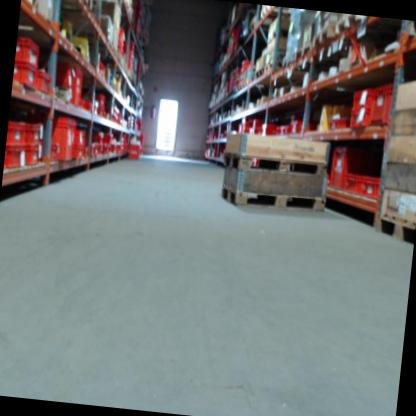pallet: (219, 184, 325, 214), (221, 151, 328, 179), (374, 211, 416, 245), (334, 12, 364, 37), (312, 19, 335, 50), (295, 41, 312, 61), (77, 0, 93, 11), (254, 66, 264, 80), (263, 61, 273, 73)
small_load_carrier: (328, 148, 363, 191), (49, 118, 78, 165), (371, 80, 396, 128), (14, 34, 44, 71), (13, 63, 40, 92), (65, 68, 85, 107), (357, 171, 382, 202), (25, 119, 48, 148), (348, 105, 374, 129), (24, 142, 46, 170), (341, 171, 365, 196), (349, 87, 377, 108), (7, 119, 28, 147), (4, 146, 26, 169), (36, 72, 54, 100), (61, 63, 75, 89), (69, 146, 87, 164), (73, 125, 89, 144), (288, 115, 301, 130)
